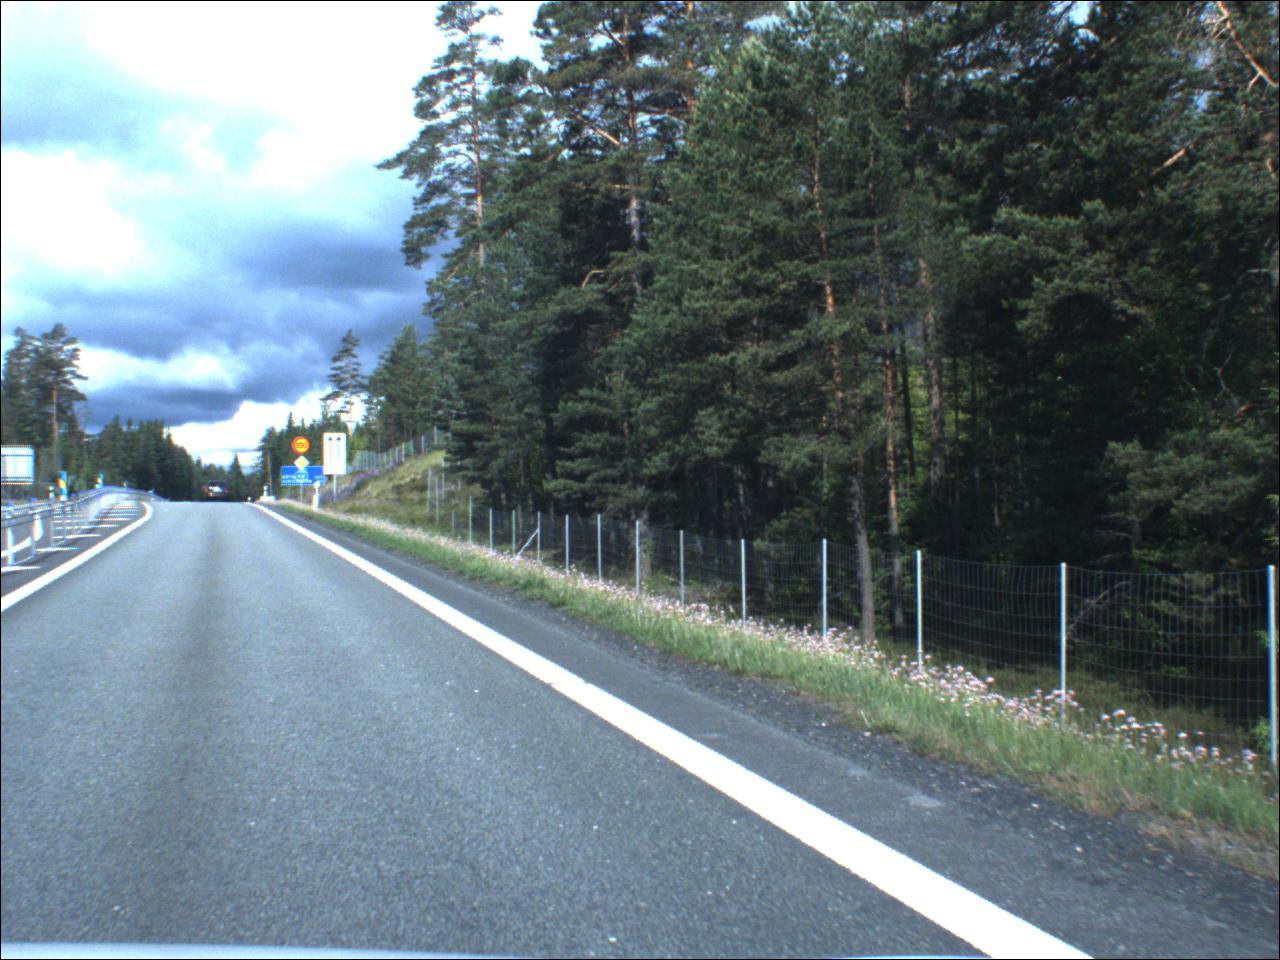100_SIGN: (293, 438, 313, 457)
PRIORITY_ROAD: (296, 458, 313, 473)
